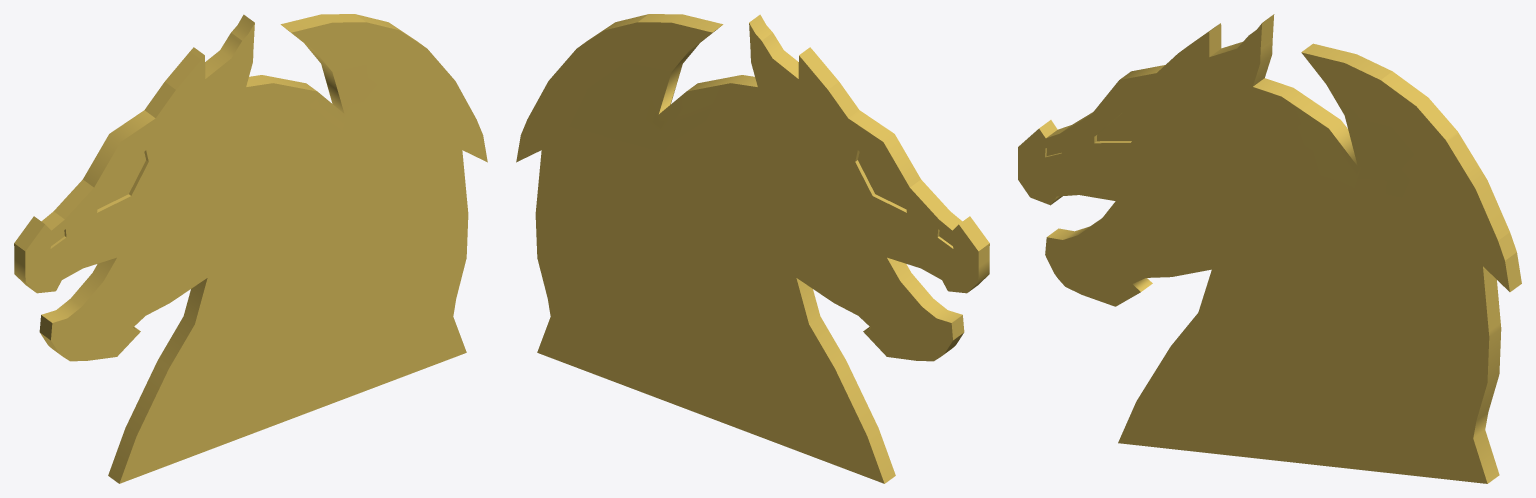
Rendered from dragon coleccionable.fbx.
3 renders of one model, left to right at view 1: azimuth 30°, elevation 25°; view 2: azimuth 150°, elevation 25°; view 3: azimuth 330°, elevation 25°, orthographic. The views are drawn at different scales.
Visible parts, largest first — view 1: pCube1; view 2: pCube1; view 3: pCube1.
Boxes of the visible parts, left/top/right/bottom form: pCube1: left=14, top=14, right=487, bottom=483; pCube1: left=516, top=14, right=989, bottom=483; pCube1: left=1018, top=14, right=1521, bottom=483.
Size of the model in its own units: 11.84 by 10.48 by 0.5292.
